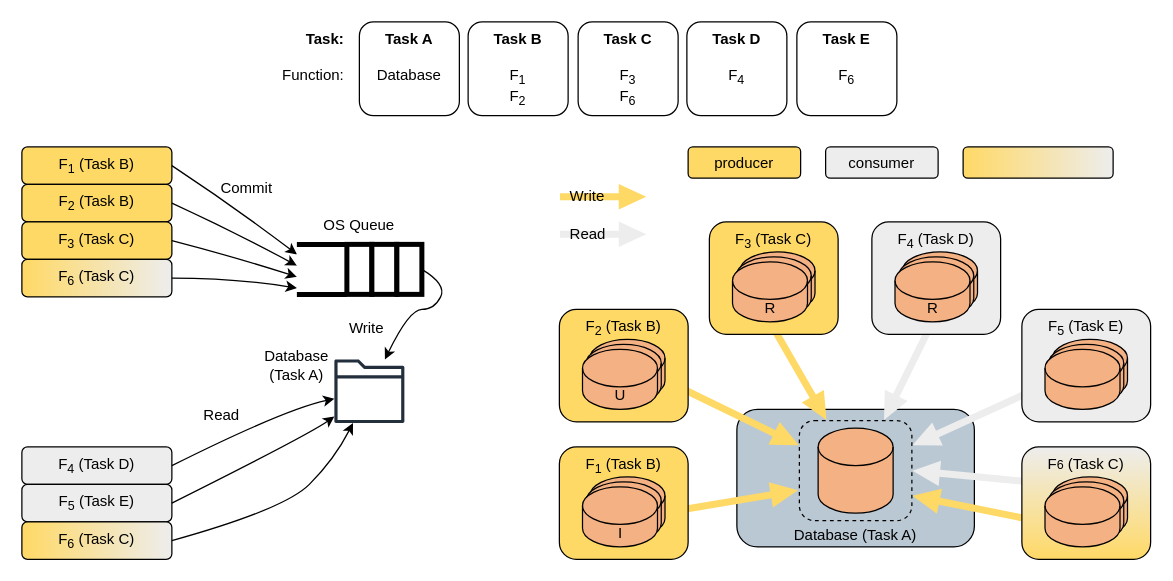
This 1173x581 diagram has some shape labels left out. The centre of each missing label's shape, as x and y in pixels:
ALL: point (855, 470)
I,U: point (1082, 378)
I,X: point (1082, 516)
producer/consumer: point (1037, 162)
